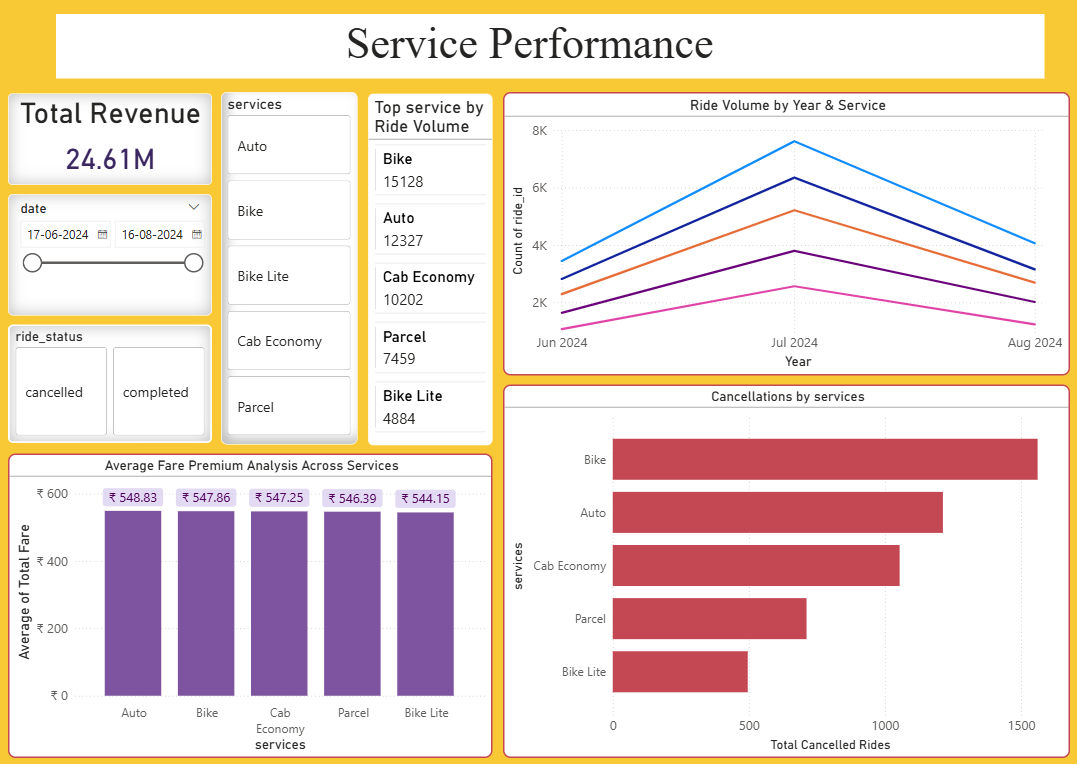

What the dashboard file says about the page in this screenshot:
{"tool":"powerbi","page":{"name":"Page 4","canvas":[1440,1024],"ordinal":3},"visuals":[{"type":"multiRowCard","title":"Top service by Ride Volume","fields":{"Values":["rides_data.services","rides_data.ride_id"]},"box":[492,126,166,469],"z":0},{"type":"clusteredColumnChart","title":"Average Fare Premium Analysis Across Services","fields":{"Category":["rides_data.services"],"Y":["Avg(rides_data.total_fare)"]},"box":[12,606,646,406],"z":1000},{"type":"clusteredBarChart","title":"Cancellations by services","fields":{"Category":["rides_data.services"],"Y":["rides_data.Total Cancelled Rides"]},"box":[672,514,756,498],"z":2000},{"type":"lineChart","title":"Ride Volume by Year & Service","fields":{"Series":["rides_data.services"],"Y":["CountNonNull(rides_data.ride_id)"],"Category":["rides_data.date.Variation.Date Hierarchy.Year","rides_data.date.Variation.Date Hierarchy.Month"]},"box":[672,124,756,378],"z":3000},{"type":"slicer","fields":{"Values":["rides_data.date"]},"box":[12,260,272,162],"z":4000},{"type":"advancedSlicerVisual","fields":{"Values":["rides_data.ride_status"]},"box":[12,434,272,158],"z":5000},{"type":"textbox","box":[76,20,1318,86],"z":6000},{"type":"card","title":"Total Revenue","fields":{"Values":["rides_data.Total Revenue"]},"box":[12,126,272,122],"z":7000},{"type":"advancedSlicerVisual","fields":{"Values":["rides_data.services"]},"box":[296,124,182,470],"z":8000}]}

Visuals, with their boxes in screenshot pixels (x1, y1, x2, y2), scaled from the page's 1440x1024 canvas onto the 1077x764 screenshot:
"Top service by Ride Volume" multiRowCard: box=[368, 94, 492, 444]
"Average Fare Premium Analysis Across Services" clusteredColumnChart: box=[9, 452, 492, 755]
"Cancellations by services" clusteredBarChart: box=[503, 383, 1068, 755]
"Ride Volume by Year & Service" lineChart: box=[503, 93, 1068, 375]
slicer - rides_data.date: box=[9, 194, 212, 315]
advancedSlicerVisual - rides_data.ride_status: box=[9, 324, 212, 442]
textbox: box=[57, 15, 1043, 79]
"Total Revenue" card: box=[9, 94, 212, 185]
advancedSlicerVisual - rides_data.services: box=[221, 93, 358, 443]
